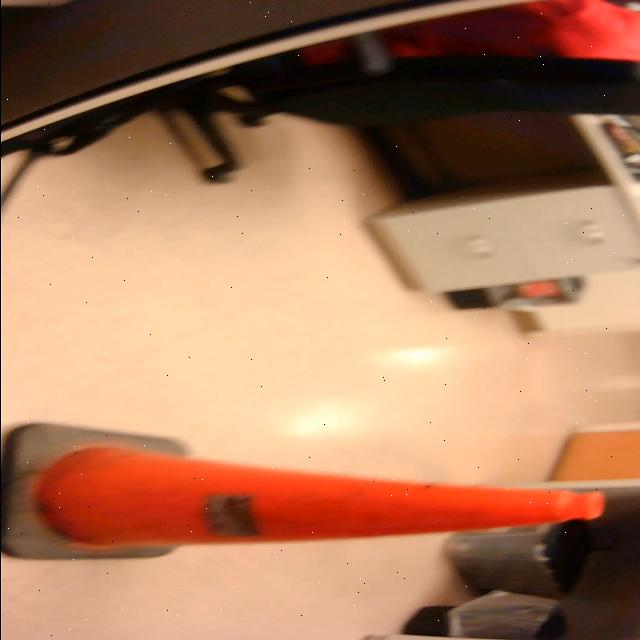traffic cone: (1, 418, 612, 567)
